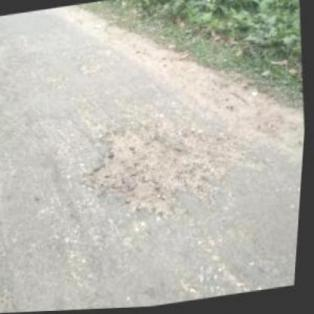Hueco: (83, 116, 208, 222)
